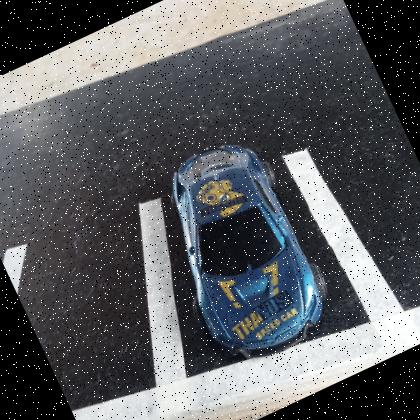Car: (172, 145, 325, 356)
